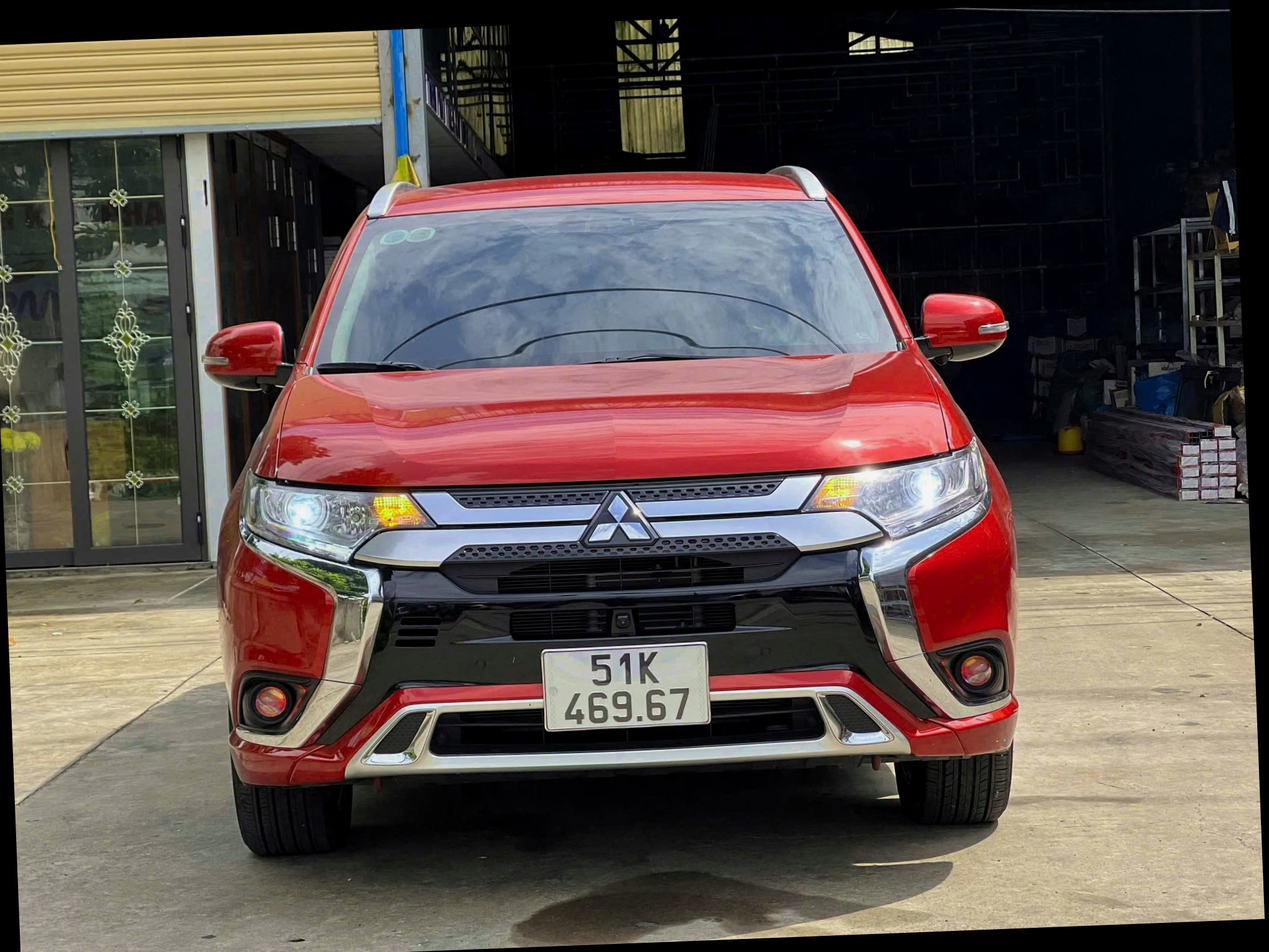Bien-so: (536, 641, 720, 733)
